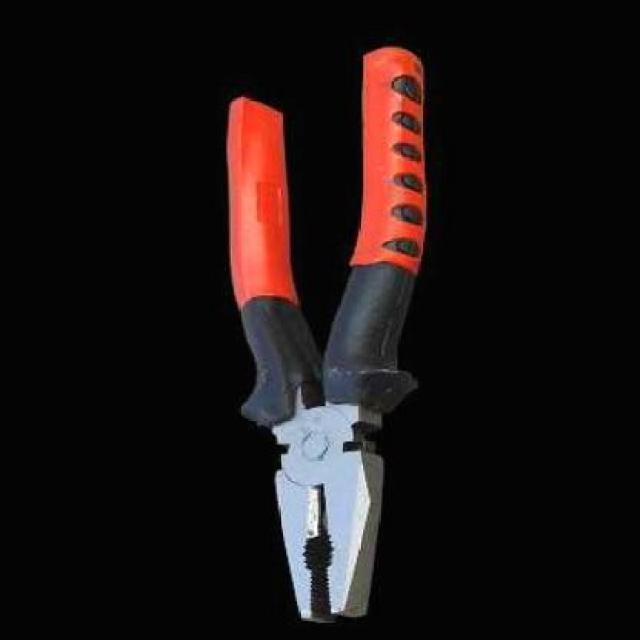pliers: (214, 45, 431, 622)
